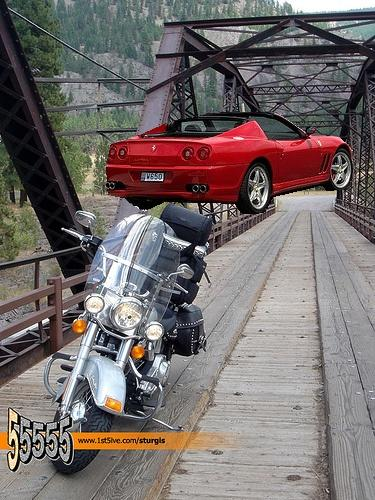tampered: (107, 112, 353, 214)
